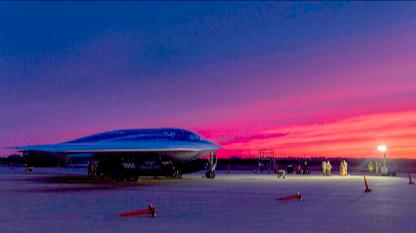B1: (1, 126, 225, 180)
